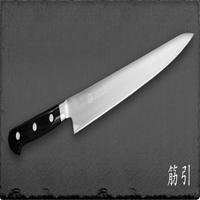knife: (7, 25, 199, 160)
